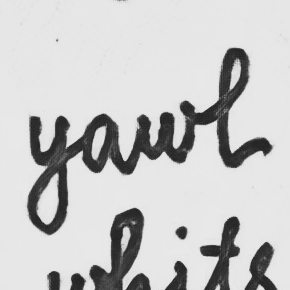a: (78, 109, 126, 174)
l: (213, 43, 275, 170)
w: (132, 95, 198, 166)
y: (23, 112, 72, 237)
